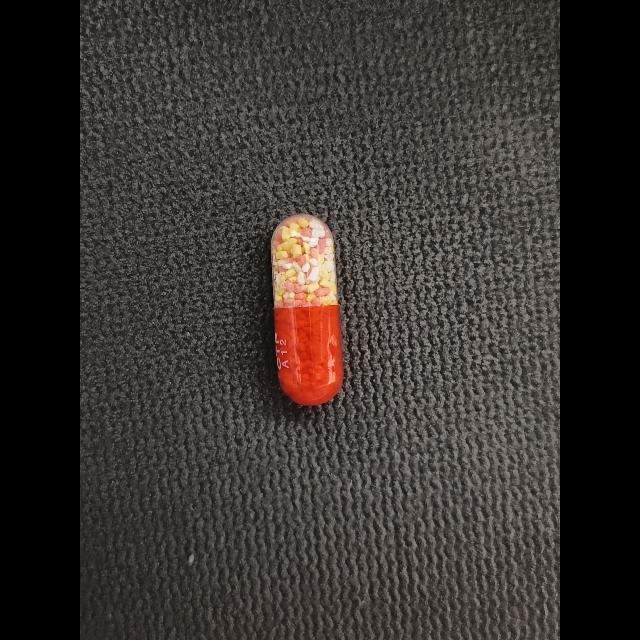Intact Capsule: (271, 214, 343, 405)
